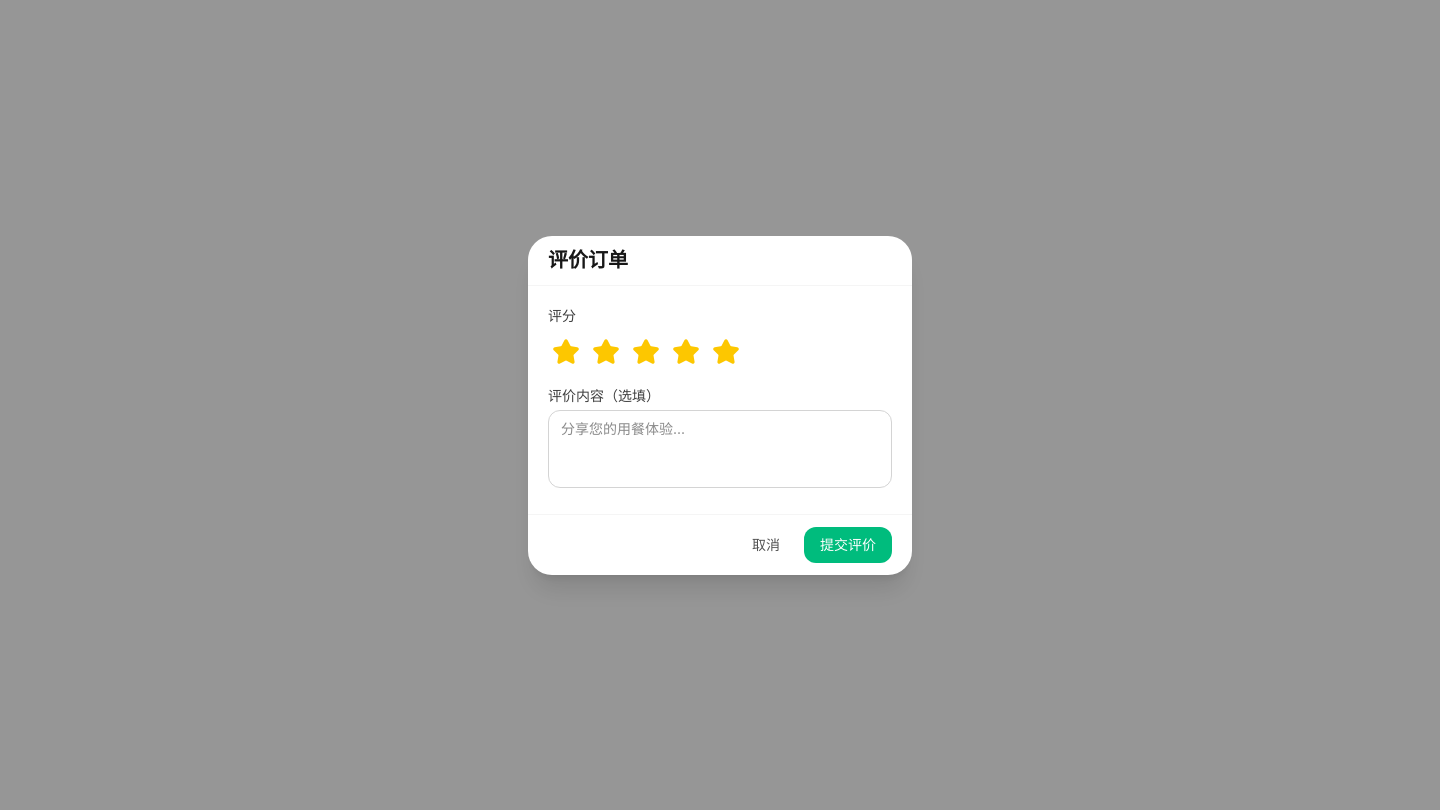
ReviewSubmitModal 评价提交弹窗 › 提交失败（非 ApiError）显示兜底错误
Click the button "提交评价" at (848, 544), box [804, 526, 892, 562]
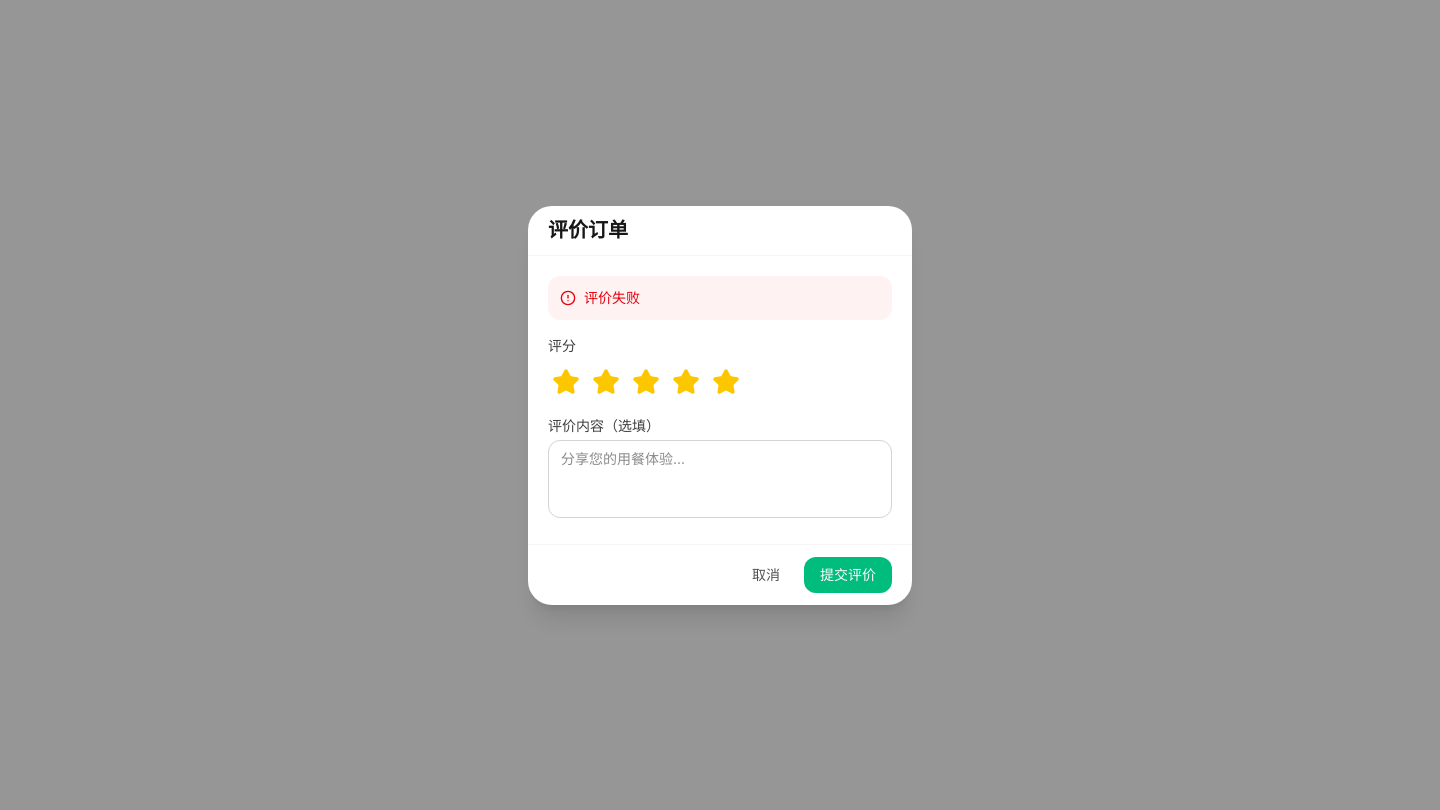
Check: the text "评价失败" is shown, box [548, 276, 892, 320]
